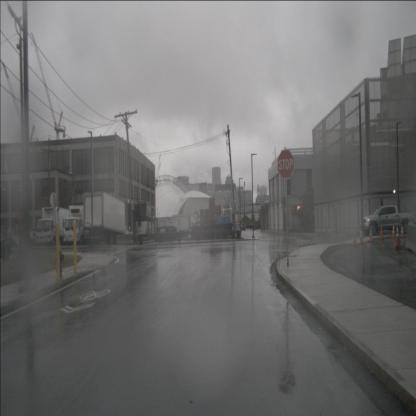movable_object-barrier: (405, 220, 415, 257)
movable_object-trafficcone: (395, 225, 402, 247), (352, 228, 358, 245), (359, 224, 364, 244), (391, 223, 397, 239), (400, 223, 405, 239), (369, 226, 374, 242), (379, 225, 384, 240)
vehicle-car: (241, 223, 245, 231)
vehicle-truck: (362, 205, 414, 236), (36, 206, 72, 247), (63, 204, 95, 245)
